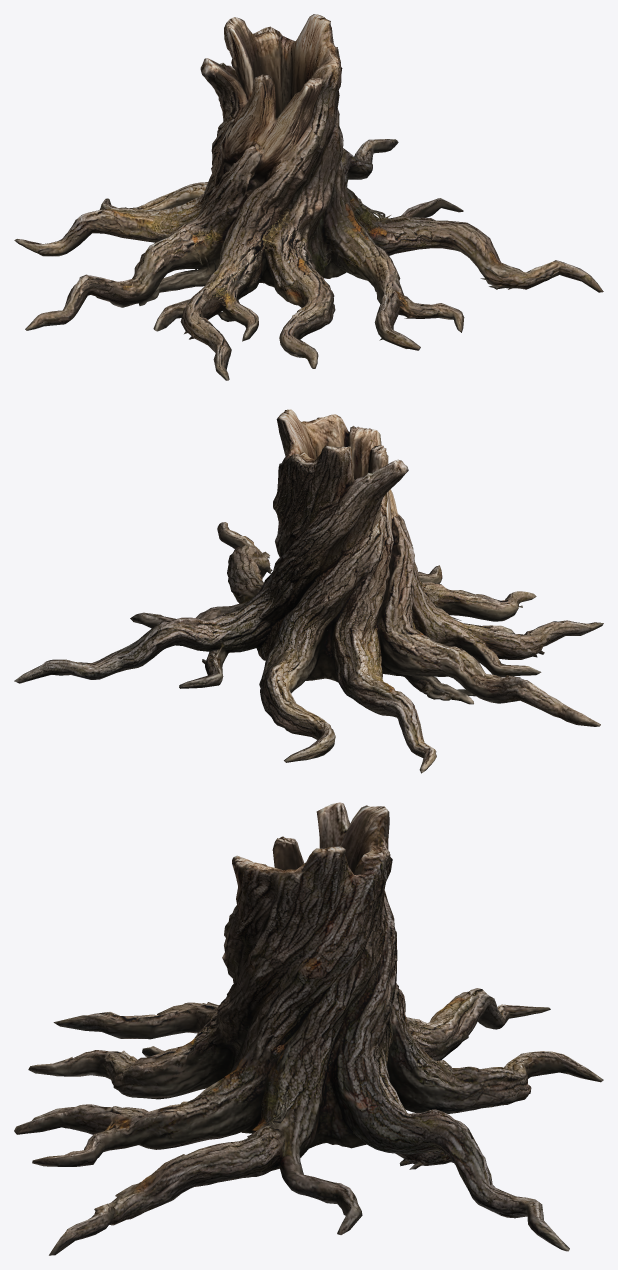
File: oak_0.glb
3 views of the same model, one above another, from view 1: azimuth 30°, elevation 25°; view 2: azimuth 150°, elevation 25°; view 3: azimuth 270°, elevation 25° (orthographic). The views are drawn at different scales.
Parts seen in each view (by area): view 1: oak; view 2: oak; view 3: oak.
Boxes of the visible parts, x1,y1,x2,y2 form: oak: [14, 14, 603, 380]; oak: [14, 409, 603, 773]; oak: [14, 802, 603, 1255].
Size of the model in its own units: 41.13 by 19.7 by 34.86.
1 material, 1 textured.
